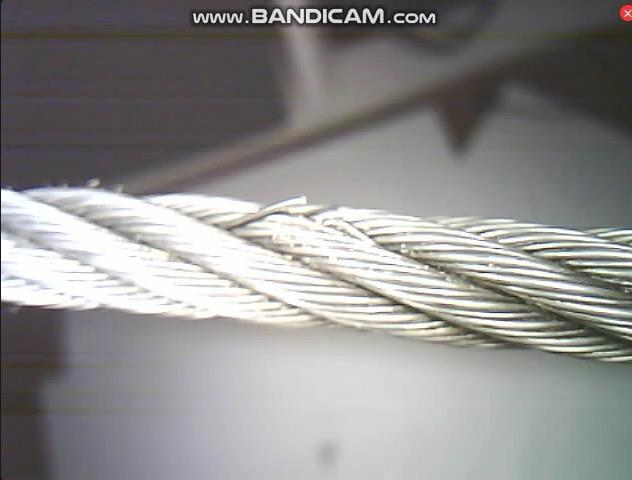break: (273, 188, 354, 238)
